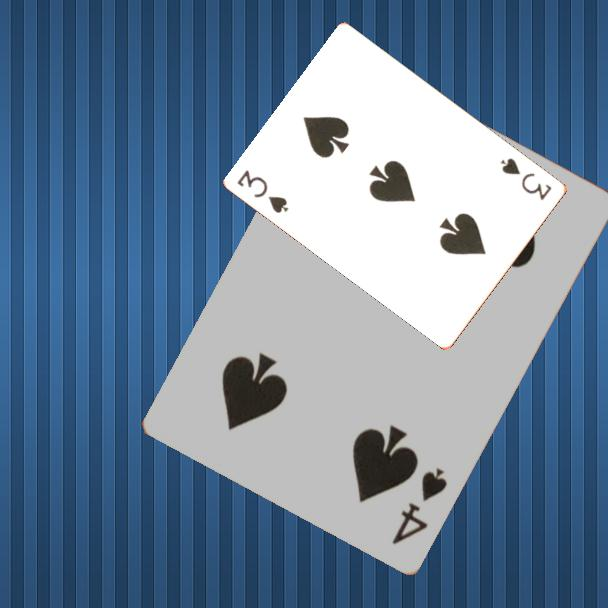s03: (233, 166, 292, 216), (498, 154, 555, 204)
s04: (388, 463, 450, 547)
